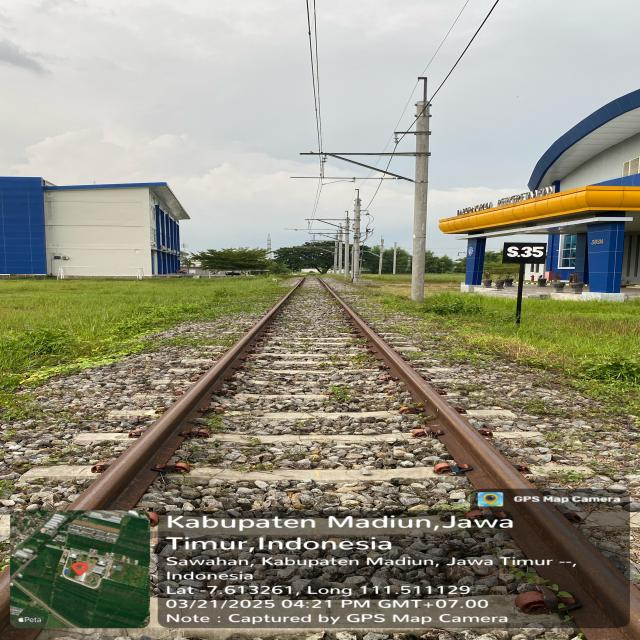rail-detection: (320, 278, 640, 640), (69, 280, 304, 510)
